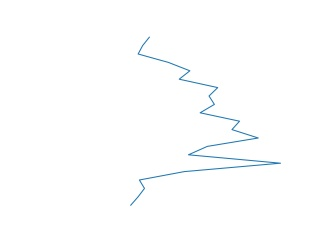floodSwamp: (127, 38, 288, 206)
